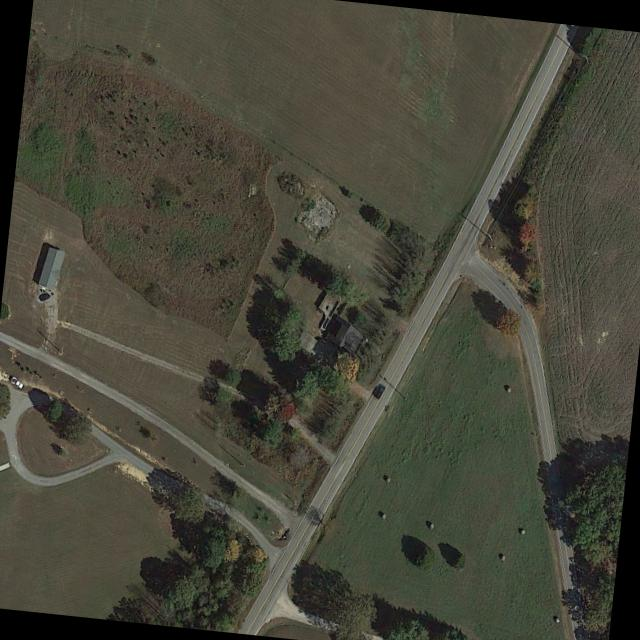small-vehicle: (373, 383, 384, 398), (11, 378, 22, 389)
